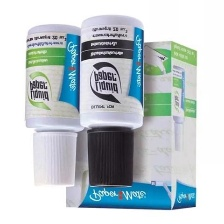book: (61, 39, 198, 210)
correction_fluid: (77, 12, 146, 189), (21, 22, 88, 188)
